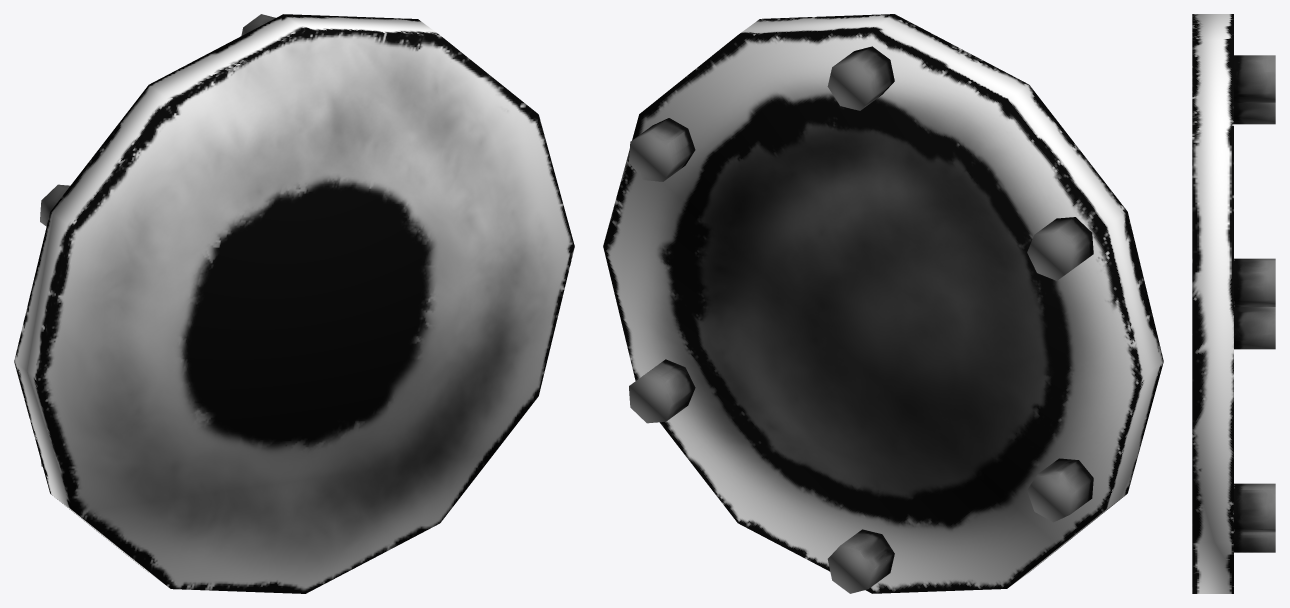
The model's file is Pipeend.fbx.
The picture shows the model from 3 angles, left to right: view 1: azimuth 30°, elevation 25°; view 2: azimuth 150°, elevation 25°; view 3: azimuth 270°, elevation 25°; orthographic projection. The views are drawn at different scales.
Parts seen in each view (by area): view 1: Pipe-End; view 2: Pipe-End; view 3: Pipe-End.
Boxes of the visible parts, x1,y1,x2,y2 form: Pipe-End: (14,14,574,593); Pipe-End: (603,14,1163,593); Pipe-End: (1192,14,1275,593).
Size of the model in its own units: 70 by 70 by 10.
Materials: 1 (1 with a texture image).
